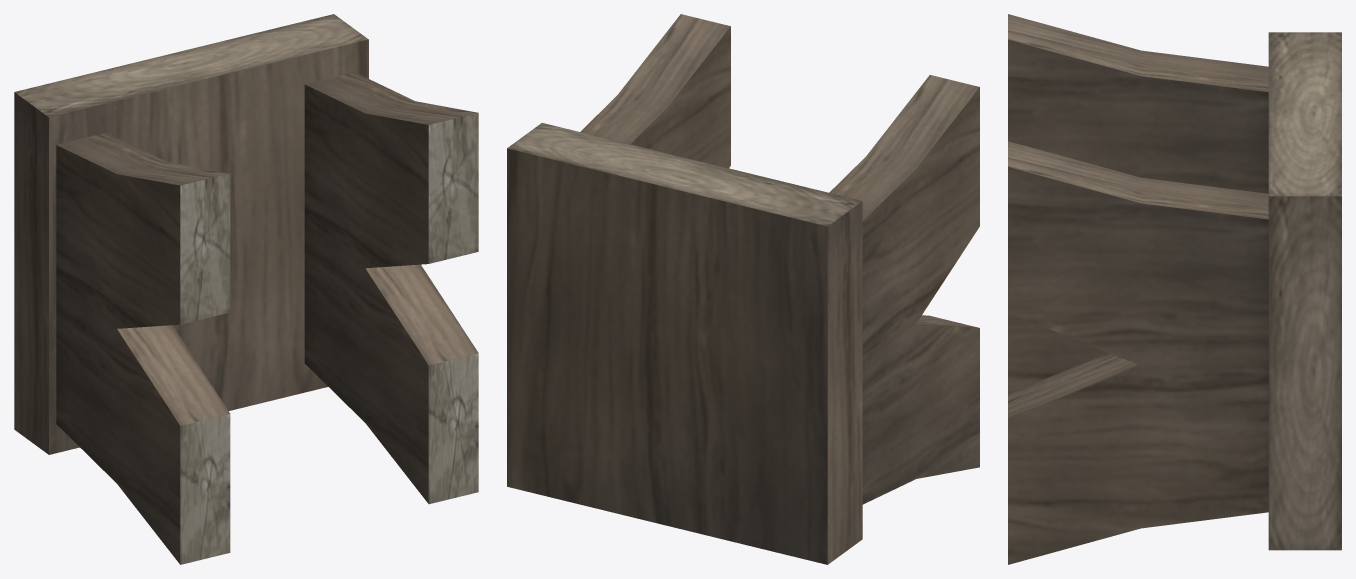
Rendered from Stool_A.fbx.
3 renders of one model, left to right at view 1: azimuth 30°, elevation 25°; view 2: azimuth 150°, elevation 25°; view 3: azimuth 270°, elevation 25°, orthographic. The views are drawn at different scales.
Parts seen in each view (by area): view 1: Stool_A; view 2: Stool_A; view 3: Stool_A.
Part boxes in pixels (left/top/right/bottom): Stool_A: left=14, top=14, right=478, bottom=564; Stool_A: left=507, top=14, right=979, bottom=564; Stool_A: left=1008, top=14, right=1341, bottom=564.
Size of the model in its own units: 0.5671 by 0.6428 by 0.4884.
